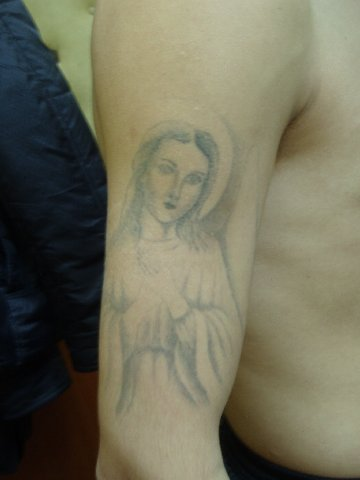tatu2_bogorodica: (110, 100, 244, 398)
